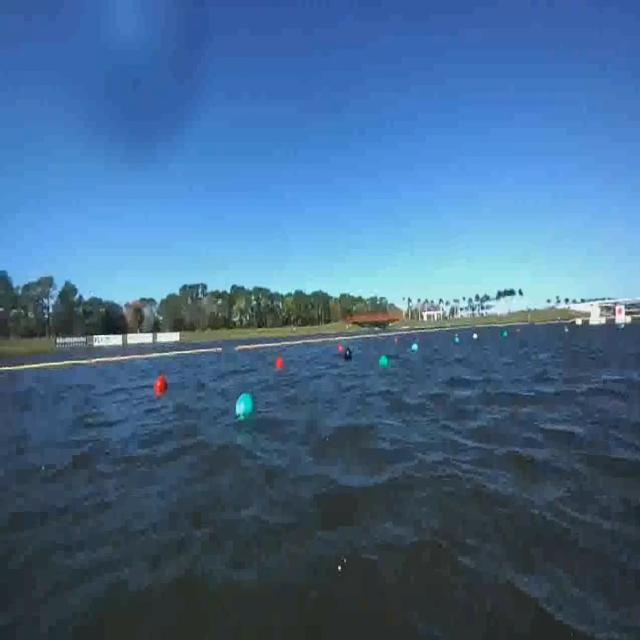black-buoy: (345, 351, 353, 361)
green-buoy: (234, 394, 254, 424), (380, 355, 389, 367)
red-buoy: (156, 376, 170, 398), (276, 357, 284, 370)
